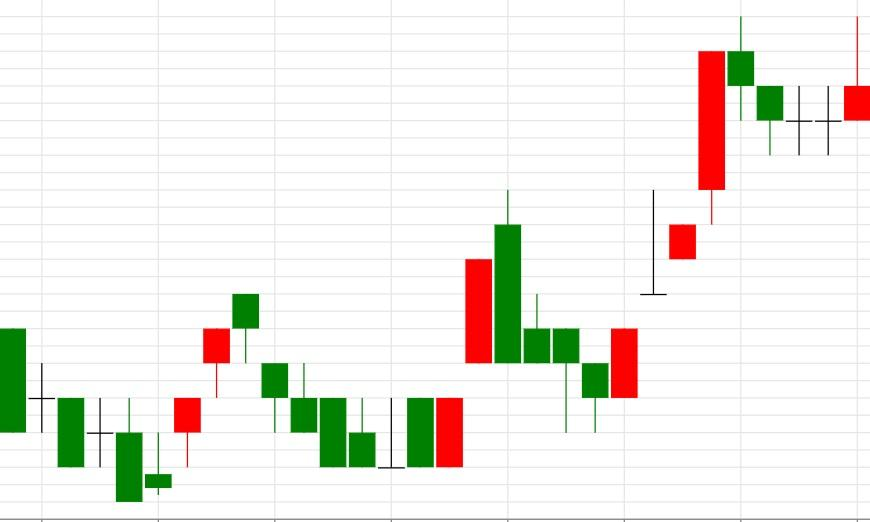bullish_engulfing_rise: (232, 293, 464, 470)
three_black_crows_fall: (116, 294, 319, 503)
